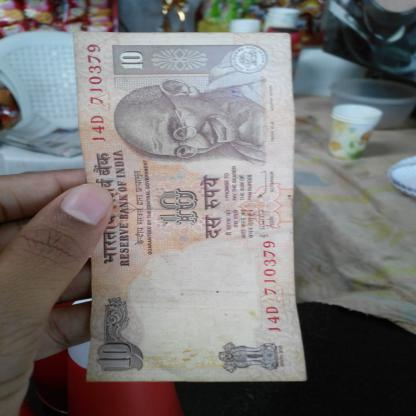Old10Front: (71, 31, 309, 383)
